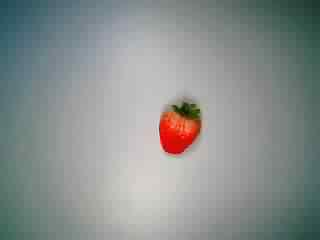strawberry: (146, 96, 208, 155)
